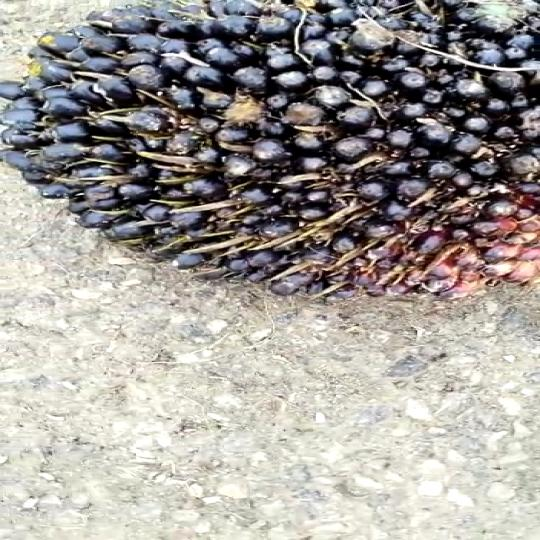mentah: (0, 0, 540, 313)
